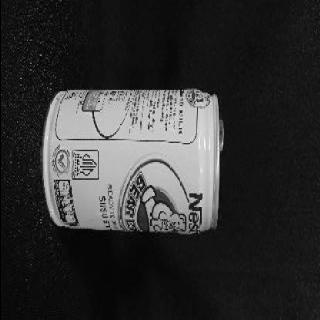alumunium_can: (40, 88, 222, 234)
